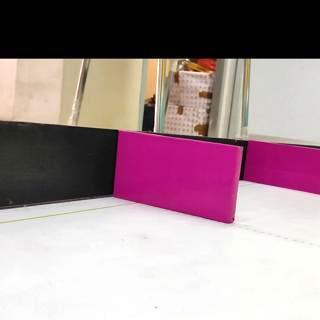xparking: (120, 146, 238, 217), (249, 148, 320, 186)
